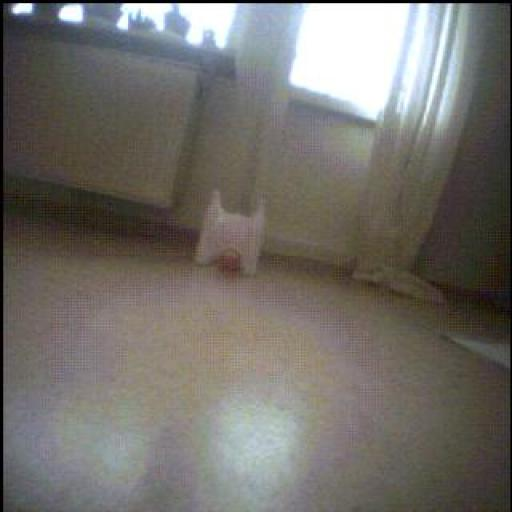Basket: (221, 248, 245, 278)
